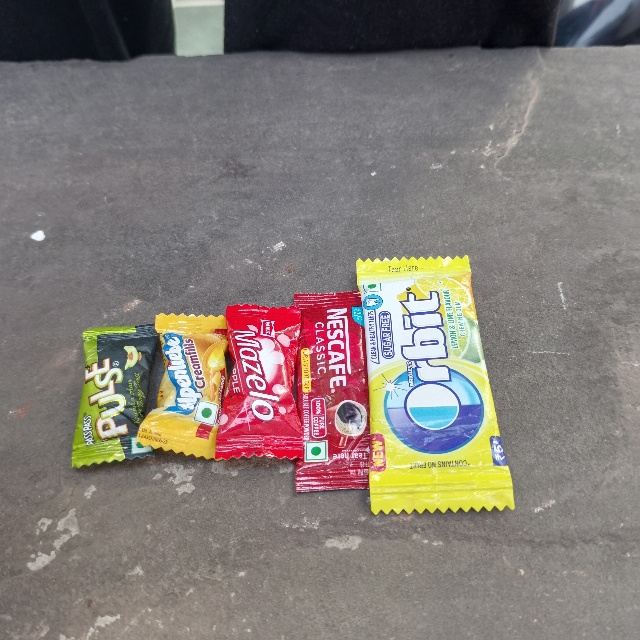Alpenlibe Creamfills: (149, 308, 222, 459)
Mazelo: (221, 302, 302, 459)
Nescafe Coffee: (292, 294, 370, 489)
Orbit: (352, 259, 514, 516)
Pulse: (76, 319, 156, 466)
